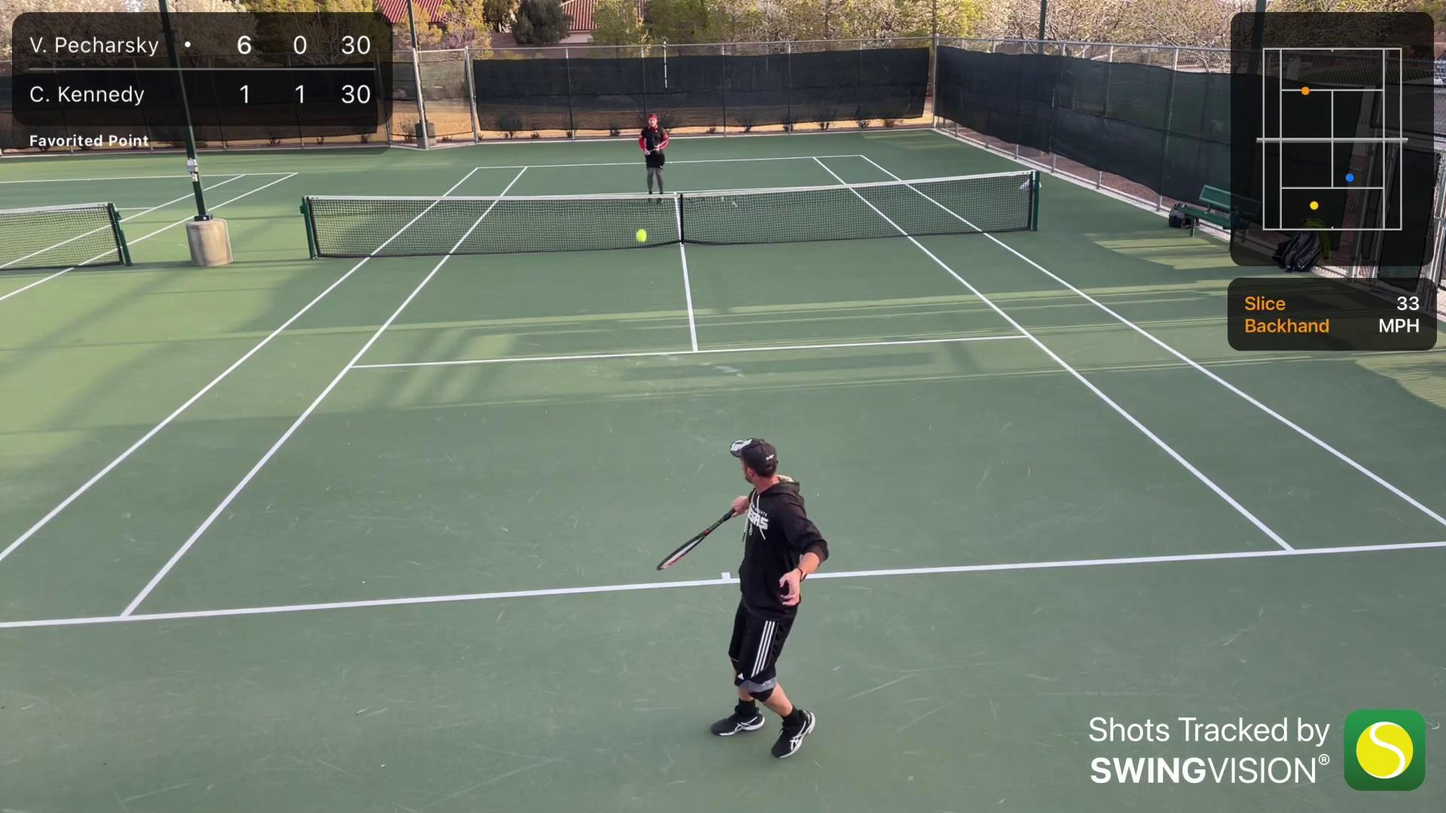ball: (632, 228, 650, 243)
